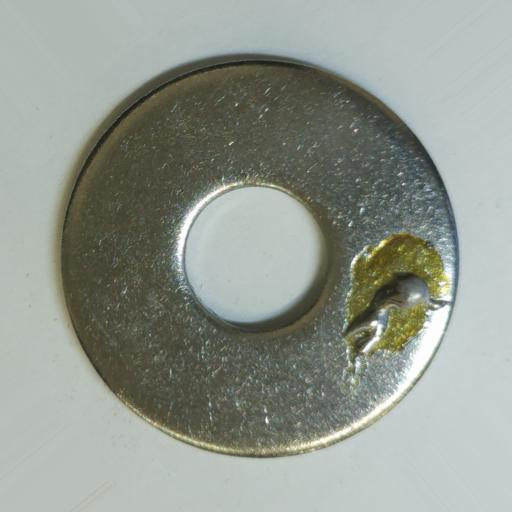excess_material: (341, 272, 450, 356)
